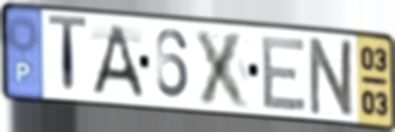6: (154, 27, 192, 103)
A: (88, 22, 146, 100)
E: (260, 34, 309, 113)
N: (307, 35, 358, 120)
T: (46, 12, 90, 100)
X: (193, 26, 253, 111)
